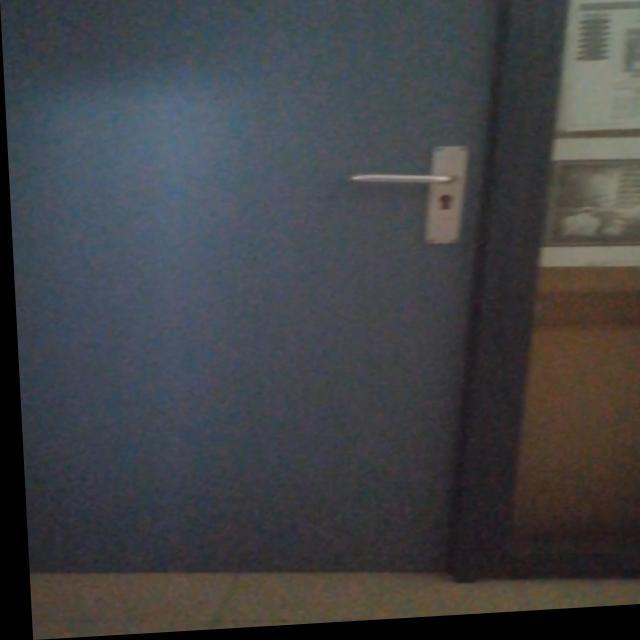door_handle: (341, 171, 456, 197)
